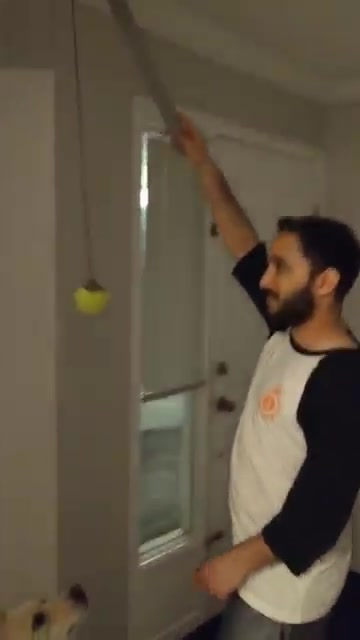tennis_ball: (73, 284, 112, 320)
